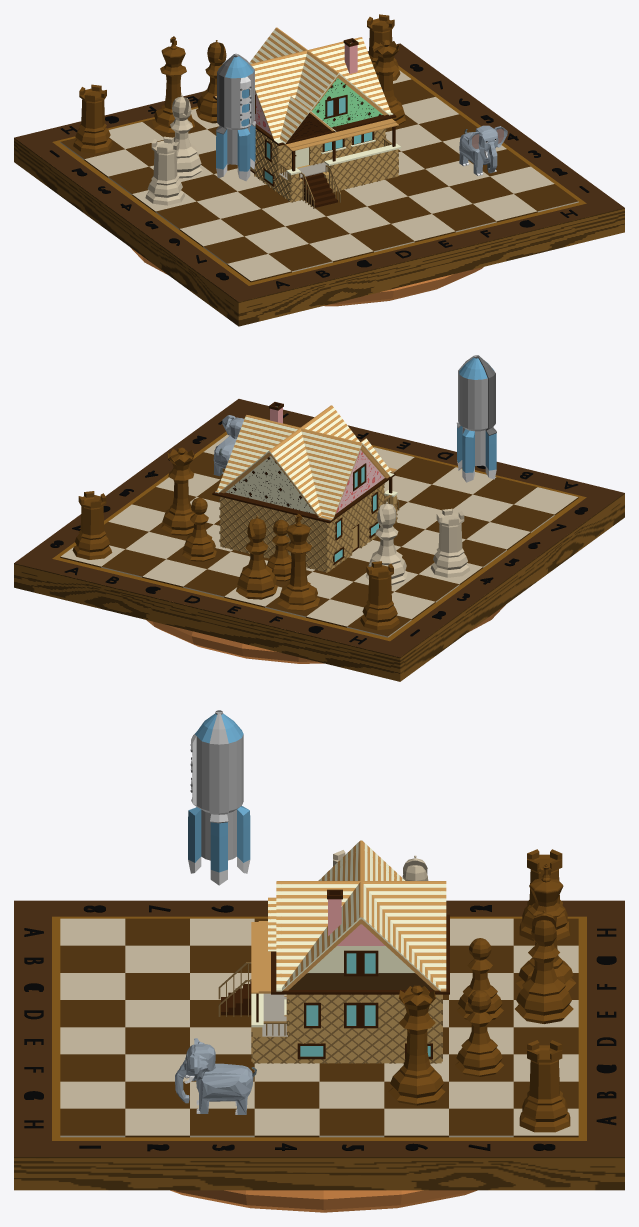
The picture shows the model from 3 angles, top to bottom: view 1: azimuth 30°, elevation 25°; view 2: azimuth 150°, elevation 25°; view 3: azimuth 270°, elevation 25°; orthographic projection. The views are drawn at different scales.
Parts seen in each view (by area): view 1: Cube.002, Cube.1102, OBJRANDOM_ROCKETSHIP, ANIMAL_ELEFANTE, UNDERGROUND_PIZZA; view 2: Cube.002, Cube.1102, OBJRANDOM_ROCKETSHIP, UNDERGROUND_PIZZA, ANIMAL_ELEFANTE; view 3: Cube.002, Cube.1102, OBJRANDOM_ROCKETSHIP, UNDERGROUND_PIZZA, ANIMAL_ELEFANTE.
Boxes of the visible parts, box(x1,y1,x2,y2) form: Cube.002: box(14, 14, 624, 326); Cube.1102: box(213, 27, 401, 208); OBJRANDOM_ROCKETSHIP: box(216, 53, 255, 181); ANIMAL_ELEFANTE: box(459, 125, 507, 176); UNDERGROUND_PIZZA: box(130, 247, 483, 306); Cube.002: box(14, 399, 624, 681); Cube.1102: box(212, 402, 399, 572); OBJRANDOM_ROCKETSHIP: box(456, 355, 496, 482); UNDERGROUND_PIZZA: box(146, 605, 505, 663); ANIMAL_ELEFANTE: box(213, 415, 244, 476); Cube.002: box(14, 849, 624, 1190); Cube.1102: box(218, 840, 449, 1063); OBJRANDOM_ROCKETSHIP: box(188, 710, 250, 885); UNDERGROUND_PIZZA: box(170, 1190, 477, 1212); ANIMAL_ELEFANTE: box(175, 1038, 256, 1114).
Bounding box in the file's own units: 3981 × 2248 × 4012.
31 materials, 3 textured.
